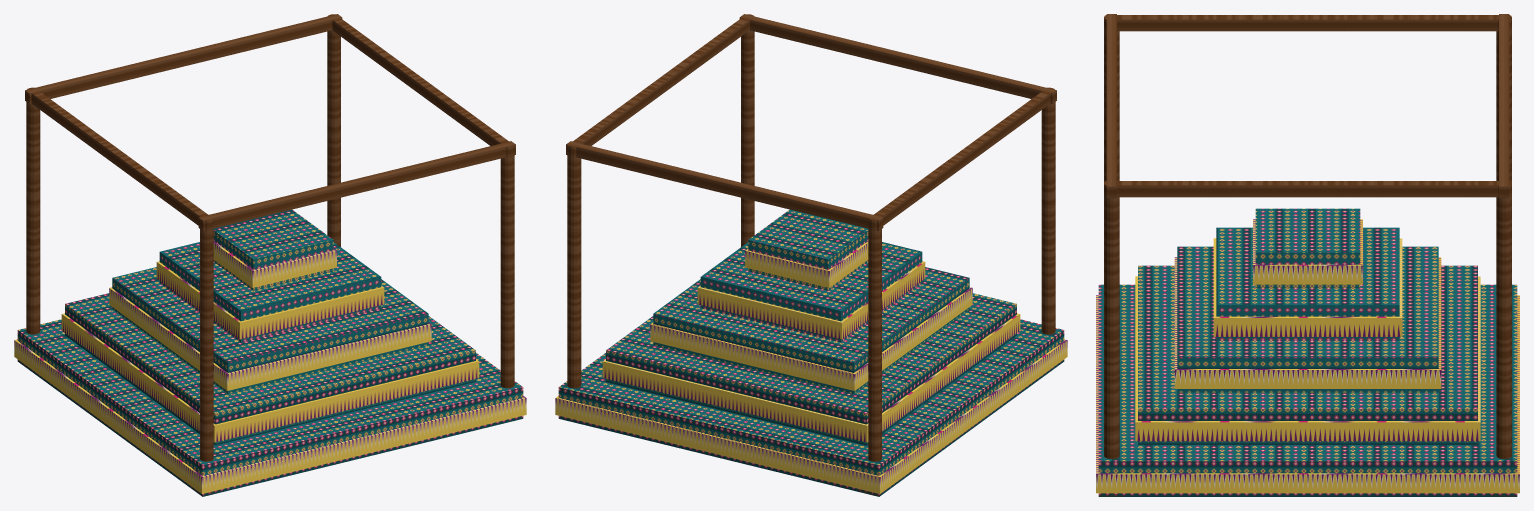
The model's file is altar_piramide.obj.
The picture shows the model from 3 angles, left to right: view 1: azimuth 30°, elevation 25°; view 2: azimuth 150°, elevation 25°; view 3: azimuth 270°, elevation 25°; orthographic projection. The views are drawn at different scales.
Parts seen in each view (by area): view 1: altar_piramide; view 2: altar_piramide; view 3: altar_piramide.
Boxes of the visible parts, x1,y1,x2,y2 form: altar_piramide: [14, 14, 526, 496]; altar_piramide: [555, 14, 1067, 496]; altar_piramide: [1096, 14, 1519, 496].
Size of the model in its own units: 3.24 by 2.6 by 3.24.
Materials: 3 (3 with a texture image).
